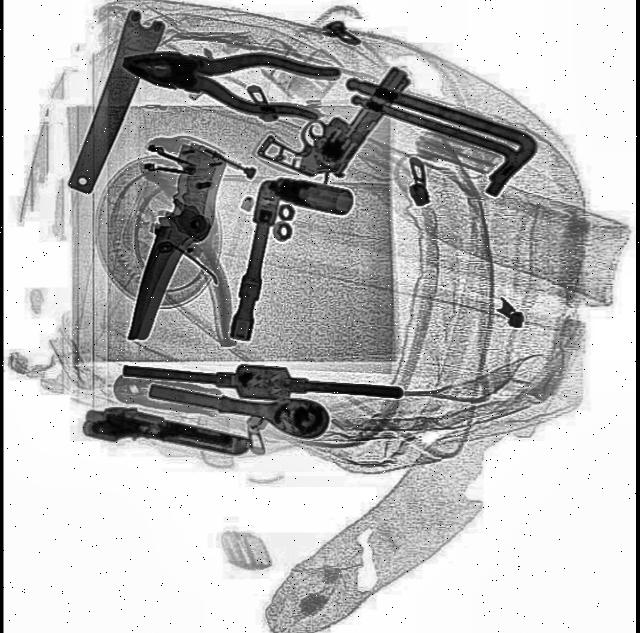Gun: (256, 18, 415, 208), (83, 394, 258, 477)
Pliers: (120, 26, 343, 128)
